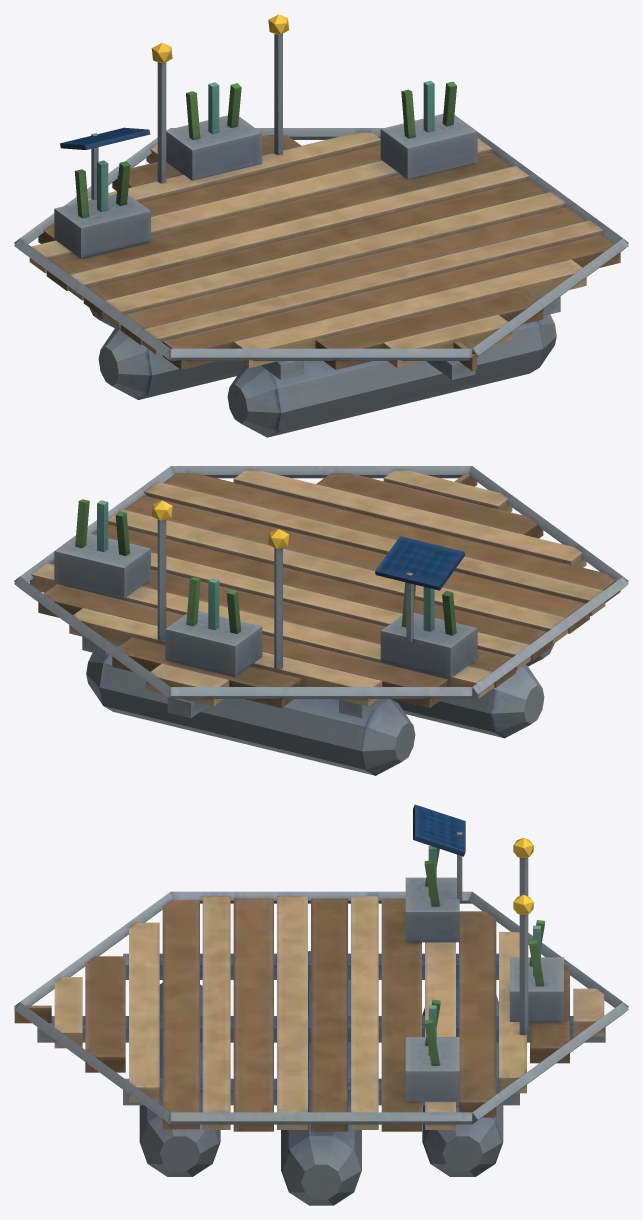
File: raft-c-age20.glb
The picture shows the model from 3 angles, top to bottom: view 1: azimuth 30°, elevation 25°; view 2: azimuth 150°, elevation 25°; view 3: azimuth 270°, elevation 25°; orthographic projection.
Parts seen in each view (by area): view 1: raft-c-age20; view 2: raft-c-age20; view 3: raft-c-age20.
Part boxes in pixels (x1=…): raft-c-age20: x1=14, y1=14, x2=628, y2=437; raft-c-age20: x1=14, y1=466, x2=628, y2=775; raft-c-age20: x1=14, y1=804, x2=628, y2=1205.
Bounding box in the file's own units: 1.59 × 0.8091 × 1.83.
Materials: 1 (1 with a texture image).
